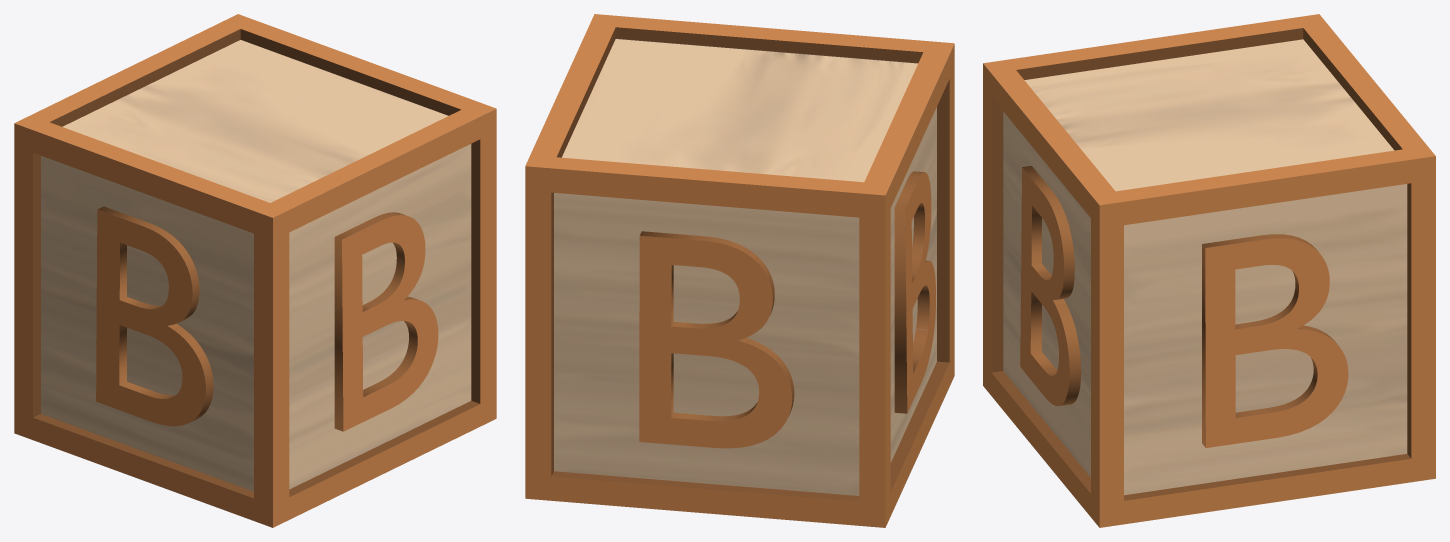
3 renders of one model, left to right at view 1: azimuth 30°, elevation 25°; view 2: azimuth 150°, elevation 25°; view 3: azimuth 270°, elevation 25°, orthographic. The views are drawn at different scales.
Parts seen in each view (by area): view 1: b; view 2: b; view 3: b.
Boxes of the visible parts, <box> form: b: <box>14,14,496,527</box>; b: <box>525,14,954,527</box>; b: <box>983,14,1435,527</box>.
Size of the model in its own units: 93.6 by 73.57 by 93.6.
1 material, 1 textured.
